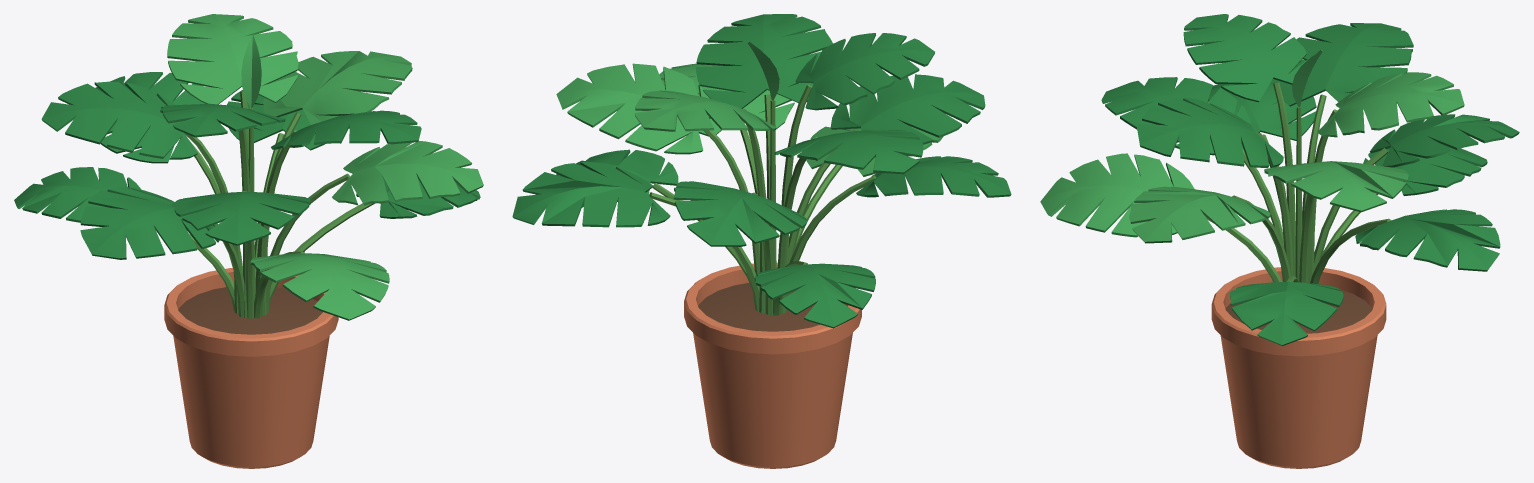
Rendered from plant_monstera.glb.
3 views of the same model, side by side, from view 1: azimuth 30°, elevation 25°; view 2: azimuth 150°, elevation 25°; view 3: azimuth 270°, elevation 25° (orthographic). The views are drawn at different scales.
Parts seen in each view (by area): view 1: leaf_dark, leaf, terracotta, stem, soil; view 2: leaf_dark, terracotta, leaf, stem, soil; view 3: leaf_dark, leaf, terracotta, stem, soil.
Boxes of the visible parts, x1,y1,x2,y2 form: leaf_dark: (14,72,480,259); leaf: (167,14,483,320); terracotta: (164,268,338,468); stem: (184,91,374,318); soil: (178,287,322,334); leaf_dark: (512,14,1011,328); terracotta: (684,262,861,468); leaf: (556,41,943,176); stem: (649,84,876,315); soil: (698,283,847,331); leaf_dark: (1101,14,1519,345); leaf: (1040,50,1464,243); terracotta: (1211,267,1386,468); stem: (1204,82,1391,283); soil: (1225,290,1372,333).
Bounding box in the file's own units: 1.16 × 1.07 × 1.16.
